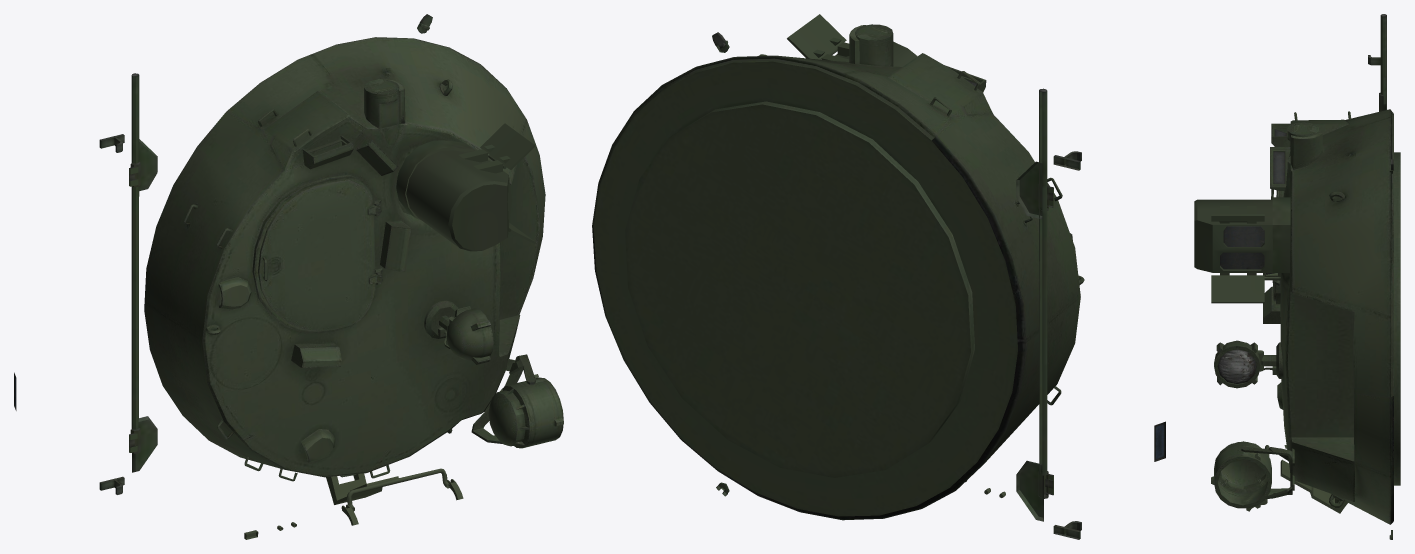
Rendered from turret.gltf.
The picture shows the model from 3 angles, left to right: view 1: azimuth 30°, elevation 25°; view 2: azimuth 150°, elevation 25°; view 3: azimuth 270°, elevation 25°; orthographic projection. The views are drawn at different scales.
Parts seen in each view (by area): view 1: turret; view 2: turret; view 3: turret.
Boxes of the visible parts, x1,y1,x2,y2 form: turret: [14, 14, 563, 539]; turret: [592, 14, 1165, 539]; turret: [1194, 14, 1400, 539].
Bounding box in the file's own units: 2.14 × 1.75 × 0.8028.
Materials: 3 (3 with a texture image).
